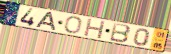0: (131, 28, 151, 47)
4: (19, 7, 36, 28)
A: (35, 11, 57, 32)
B: (109, 21, 132, 44)
H: (83, 18, 107, 40)
O: (64, 15, 83, 35)
